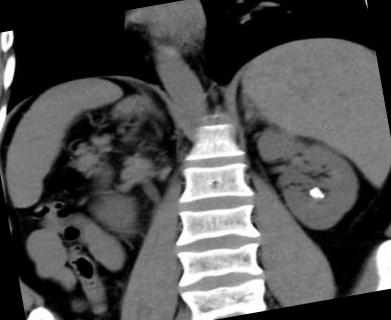Tas_Var: (302, 184, 329, 202)
